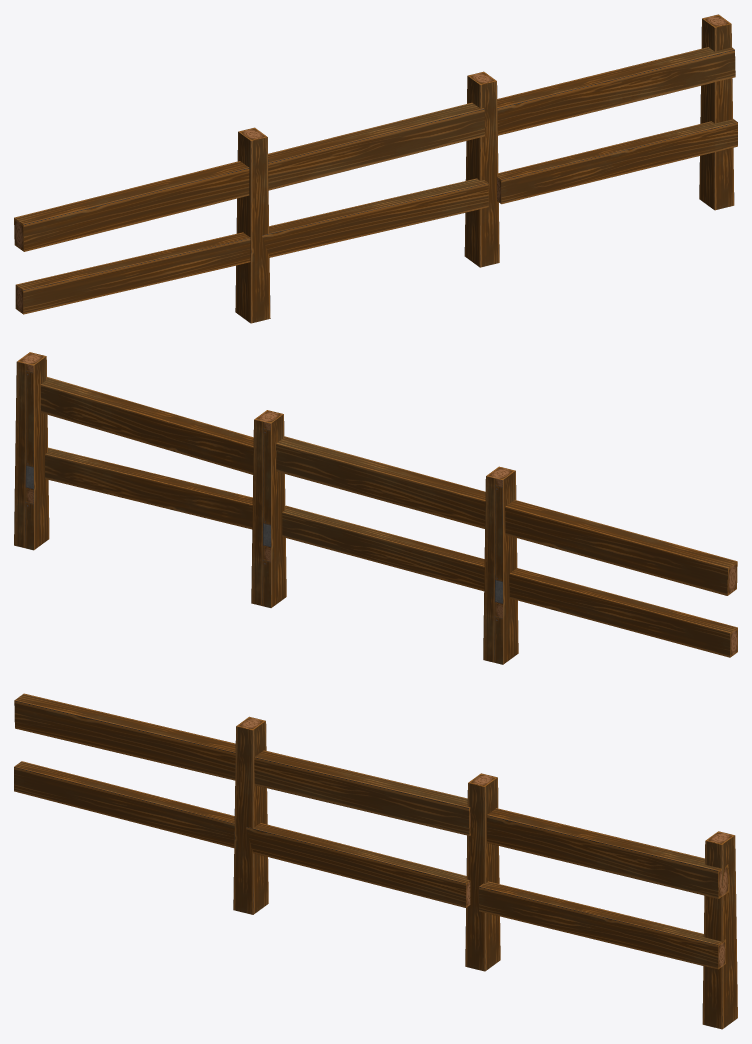
The picture shows the model from 3 angles, top to bottom: view 1: azimuth 30°, elevation 25°; view 2: azimuth 150°, elevation 25°; view 3: azimuth 330°, elevation 25°; orthographic projection.
Parts seen in each view (by area): view 1: Cube.1390; view 2: Cube.1390; view 3: Cube.1390.
Boxes of the visible parts, x1=… form: Cube.1390: x1=14, y1=14, x2=737, y2=323; Cube.1390: x1=14, y1=352, x2=737, y2=664; Cube.1390: x1=14, y1=693, x2=737, y2=1029.
Size of the model in its own units: 537 by 132 by 25.43.
Materials: 1 (1 with a texture image).
